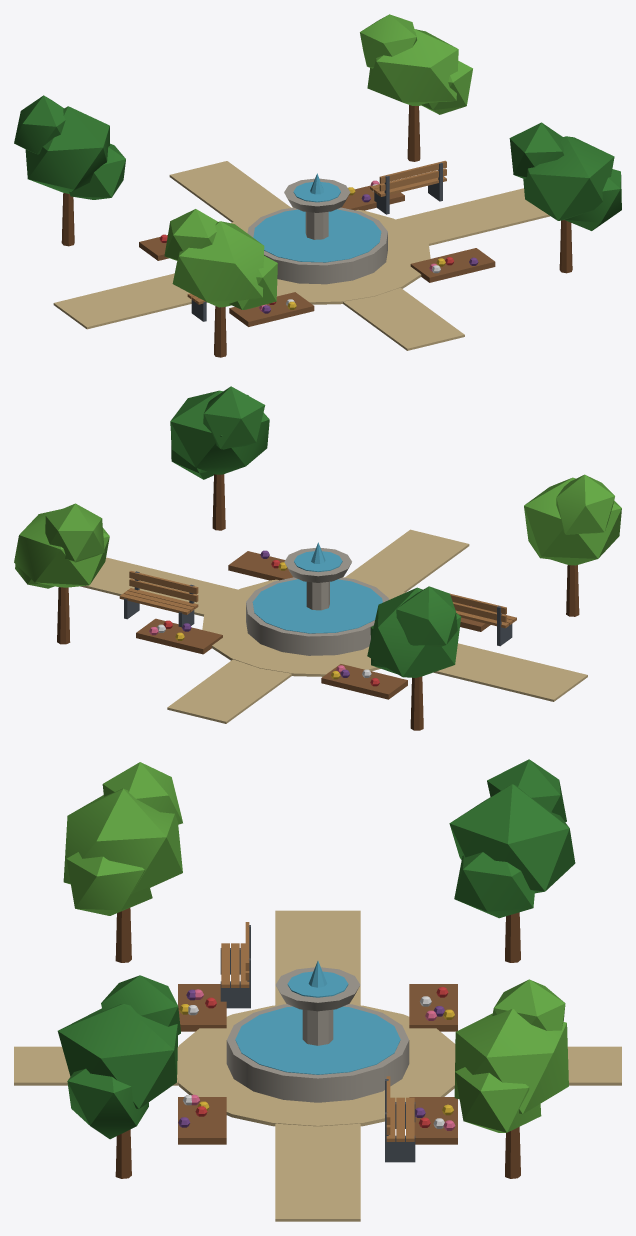
Rendered from park.gltf.
3 renders of one model, top to bottom at view 1: azimuth 30°, elevation 25°; view 2: azimuth 150°, elevation 25°; view 3: azimuth 270°, elevation 25°, orthographic. The views are drawn at different scales.
Parts seen in each view (by area): view 1: park; view 2: park; view 3: park.
Boxes of the visible parts, left/top/right/bottom form: park: left=14, top=14, right=621, bottom=357; park: left=14, top=386, right=621, bottom=730; park: left=14, top=759, right=621, bottom=1221.
Size of the model in its own units: 12 by 3.43 by 10.
